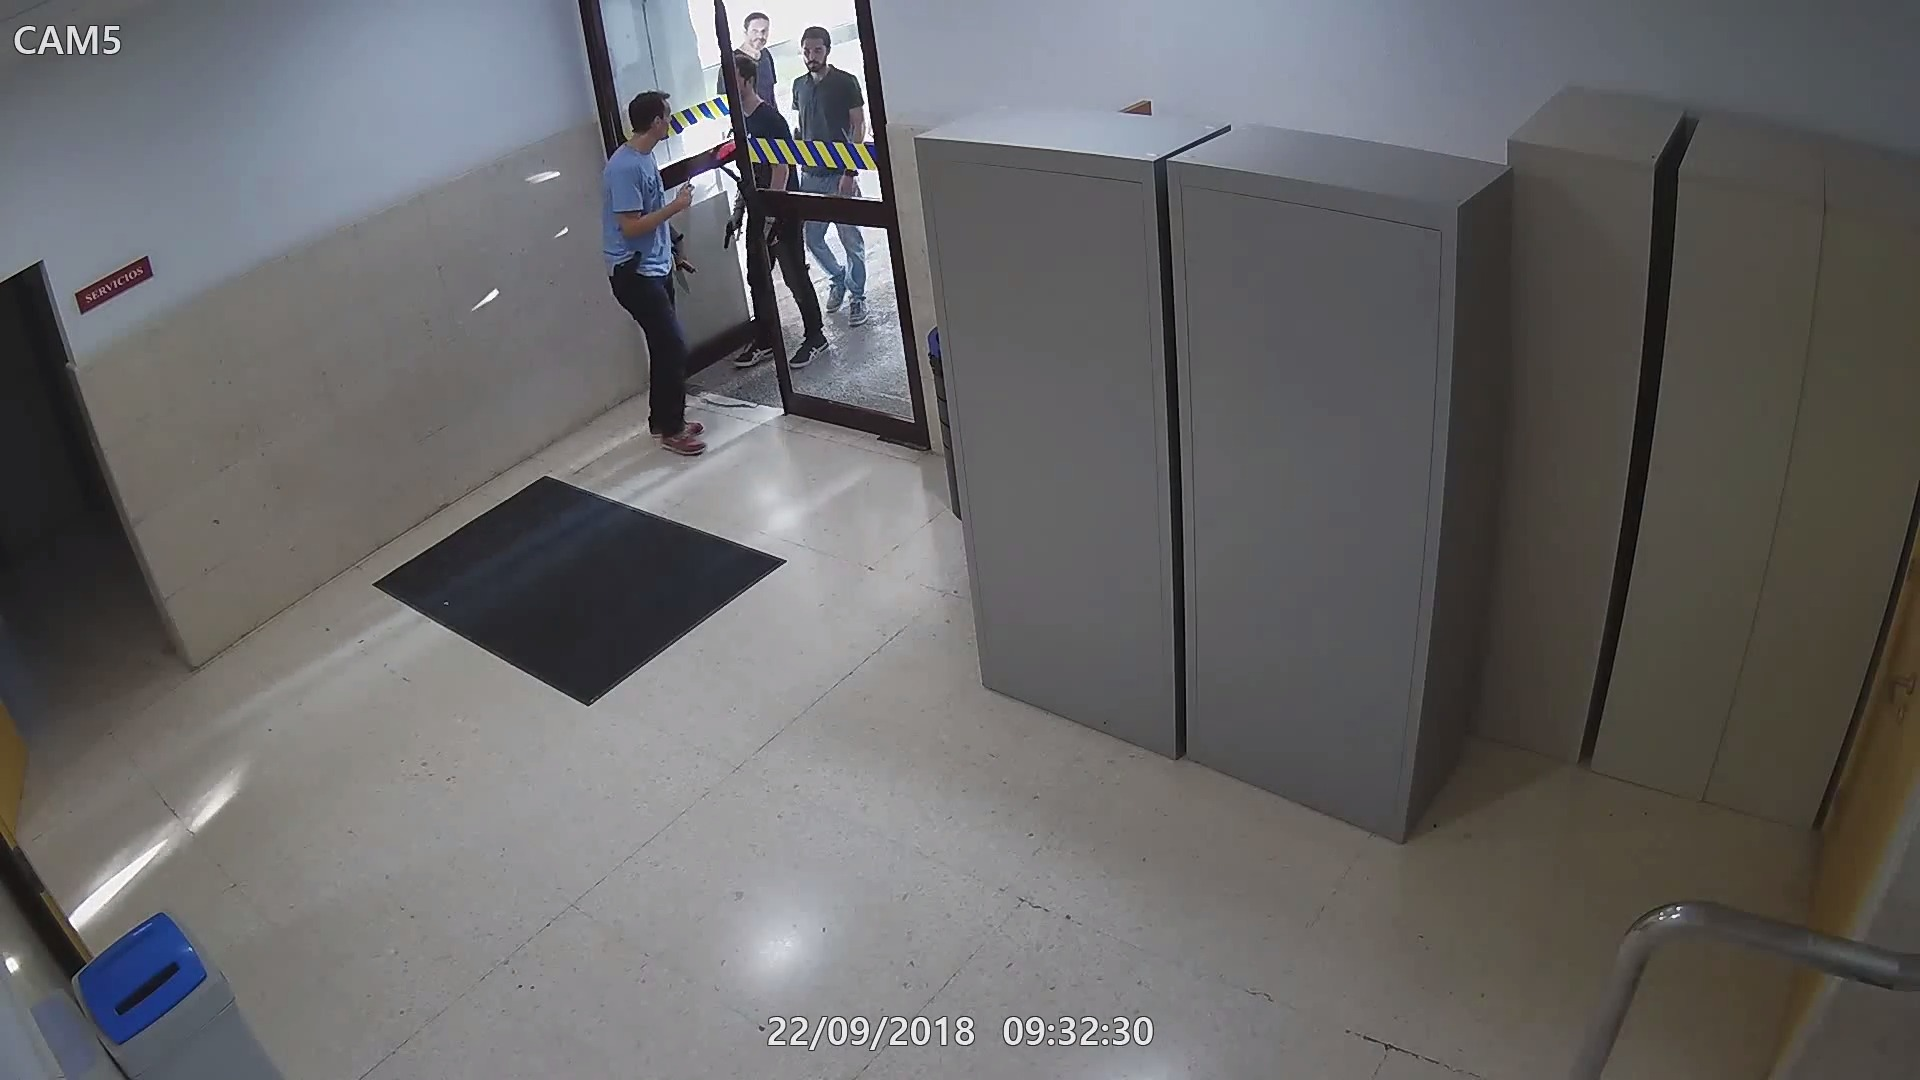Handgun: (673, 253, 705, 284), (720, 216, 746, 247)
Knife: (666, 241, 692, 294)
